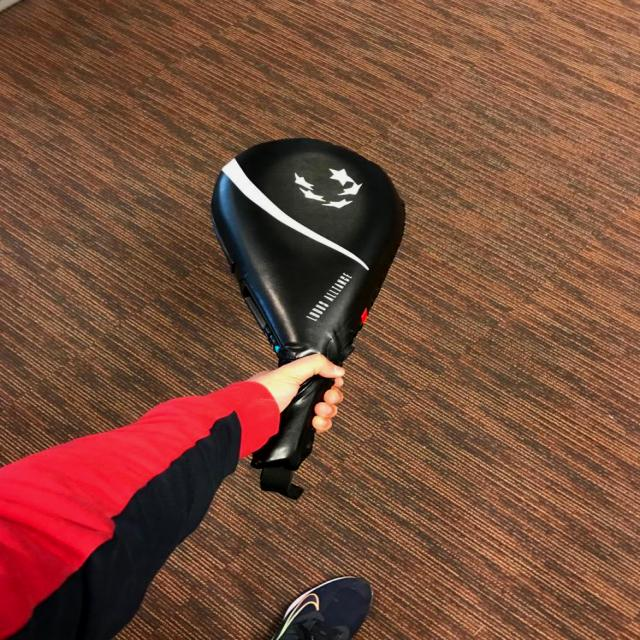paddle: (208, 134, 416, 468)
